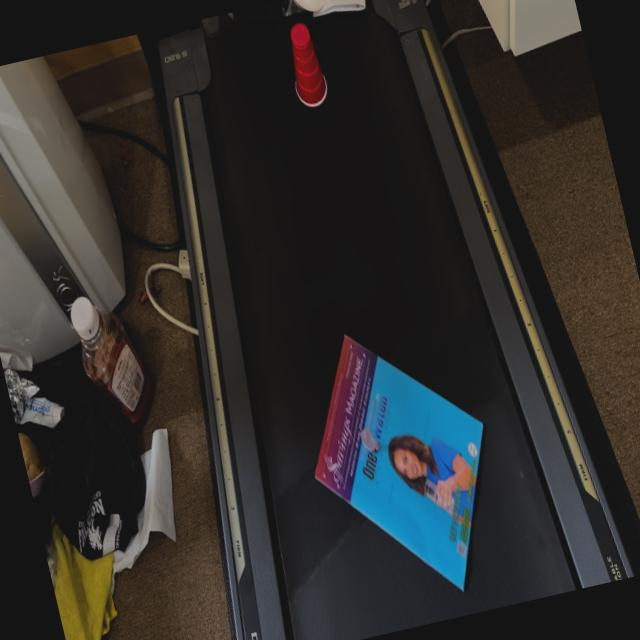Recycle: (285, 310, 519, 618), (278, 17, 332, 112)
